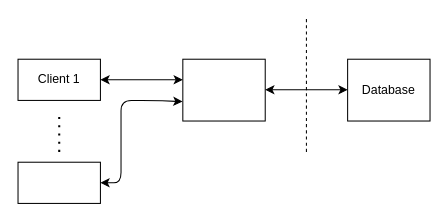
Image size: 448x221. Some labels were removed from this diagram. The shapes that lost their labels are listed below. From the top down, each one's centre as x and y in pixels, then its label:
At [223,89]: "Server".
At [58,182]: "Client n".
